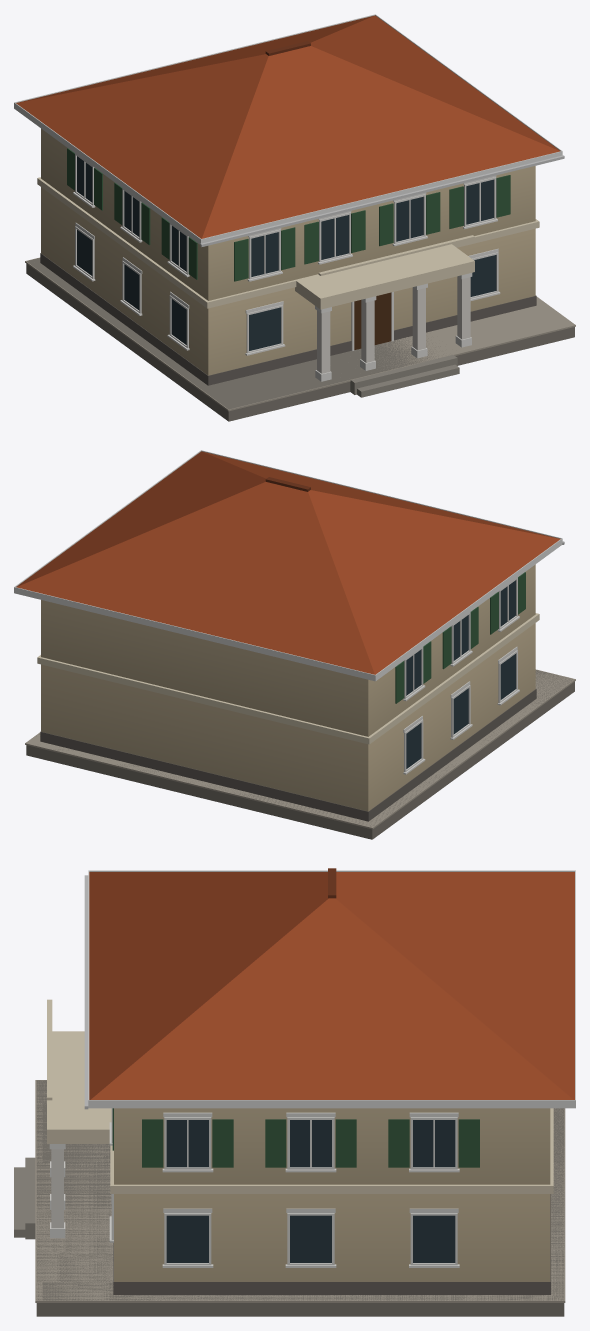
The model's file is ns_dup4_lod1.glb.
3 renders of one model, top to bottom at view 1: azimuth 30°, elevation 25°; view 2: azimuth 150°, elevation 25°; view 3: azimuth 270°, elevation 25°, orthographic. The views are drawn at different scales.
Parts seen in each view (by area): view 1: ns_dup4_lod1; view 2: ns_dup4_lod1; view 3: ns_dup4_lod1.
Part boxes in pixels (x1,y1,x2,y2): ns_dup4_lod1: (14, 14, 575, 421); ns_dup4_lod1: (14, 450, 575, 839); ns_dup4_lod1: (14, 868, 575, 1316).
Size of the model in its own units: 15.52 by 10.18 by 15.97.
